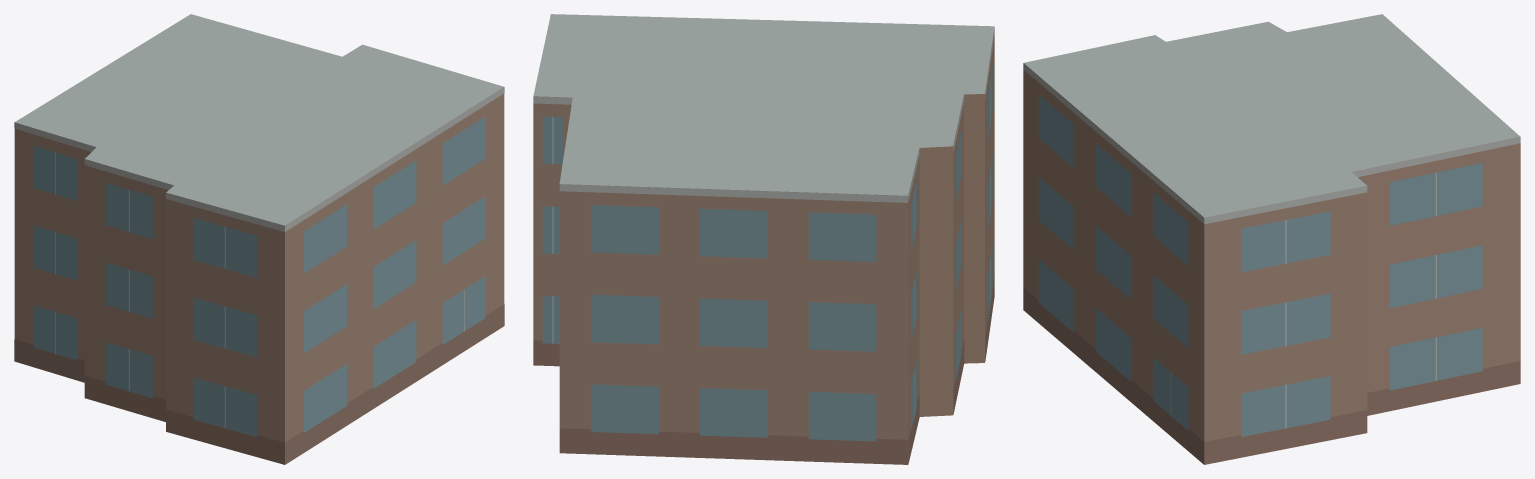
Rendered from survey-upis-32672147.glb.
3 renders of one model, left to right at view 1: azimuth 30°, elevation 25°; view 2: azimuth 150°, elevation 25°; view 3: azimuth 270°, elevation 25°, orthographic. The views are drawn at different scales.
Visible parts, largest first — view 1: survey-upis-32672147.tmp; view 2: survey-upis-32672147.tmp; view 3: survey-upis-32672147.tmp.
Part boxes in pixels (x1,y1,x2,y2): survey-upis-32672147.tmp: (14, 14, 504, 464); survey-upis-32672147.tmp: (533, 14, 994, 464); survey-upis-32672147.tmp: (1023, 14, 1520, 464).
Size of the model in its own units: 16.18 by 9.15 by 16.69.
